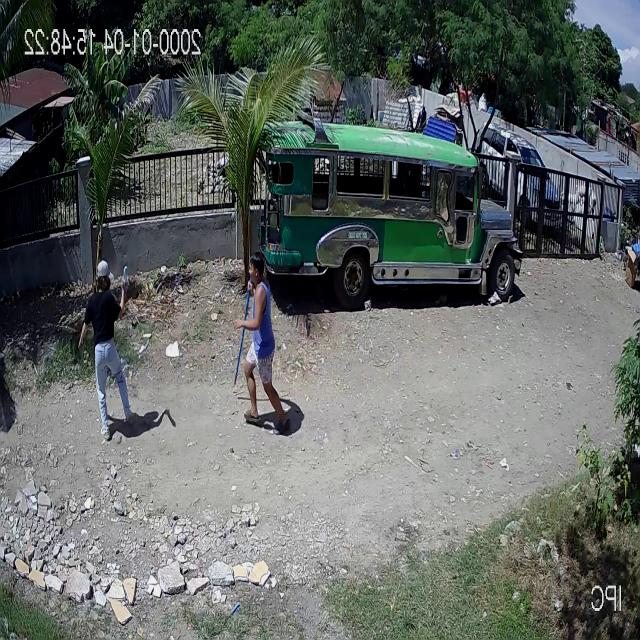running: (235, 254, 293, 434), (79, 259, 135, 440)
